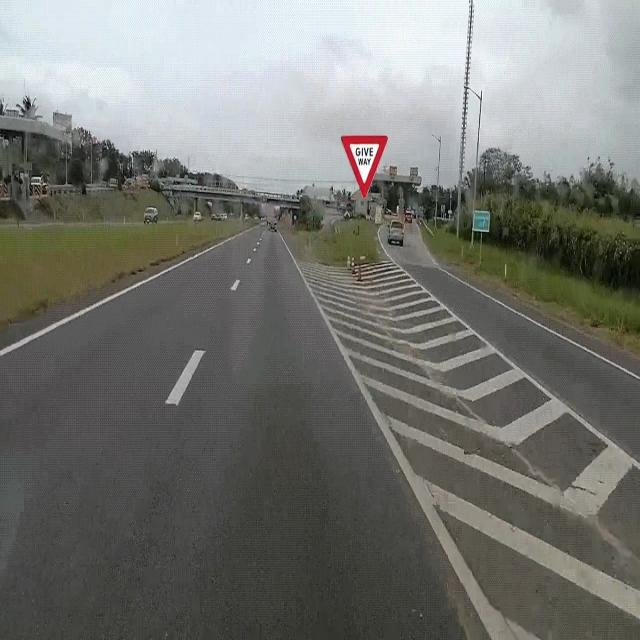Ceder-le-Passage: (338, 128, 394, 212)
